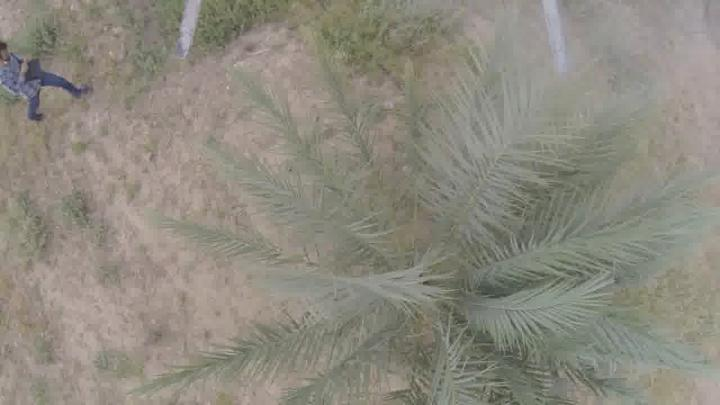Date-Palm-Crown: (295, 129, 585, 370)
